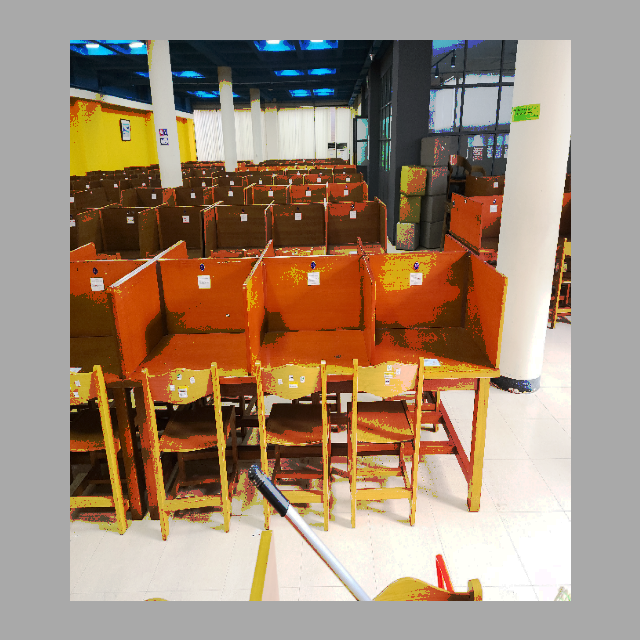empty: (378, 254, 508, 448), (119, 253, 247, 431), (252, 254, 376, 435)
